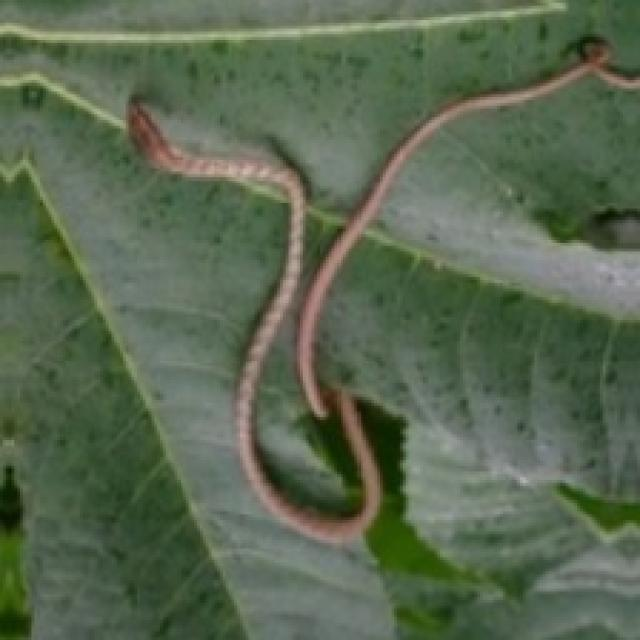philippine whip snake: (129, 40, 637, 543)
